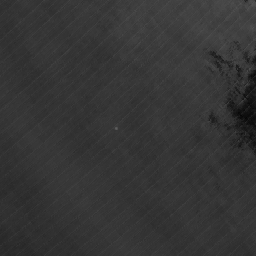Target: (113, 125, 120, 132)
